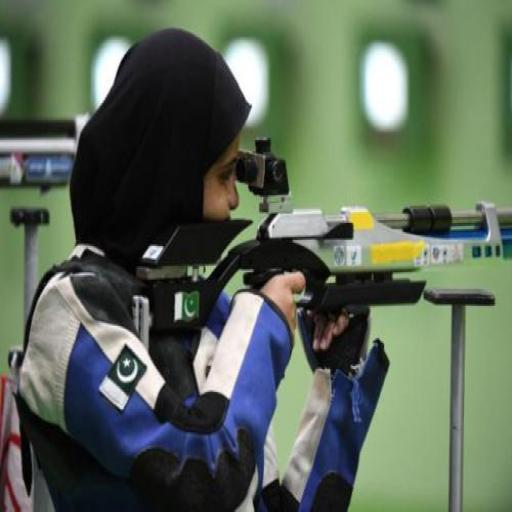shooting: (11, 24, 392, 510)
